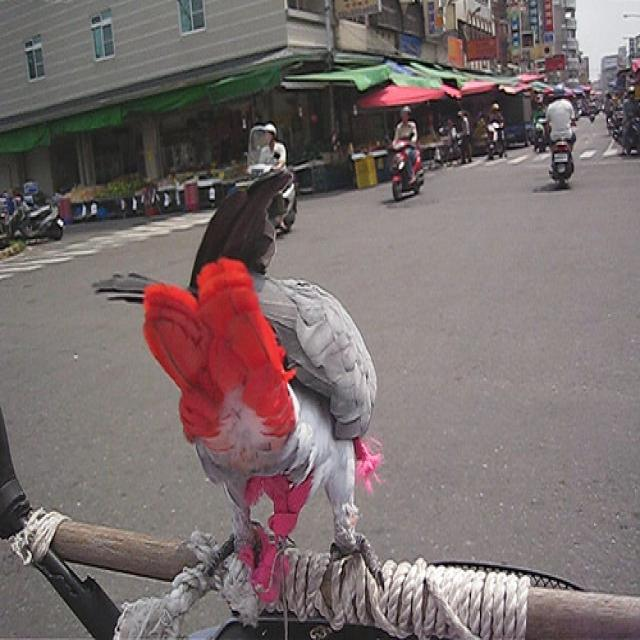motor: (246, 127, 298, 233), (492, 140, 572, 189), (388, 139, 438, 199), (4, 196, 64, 246), (623, 112, 640, 157), (486, 122, 504, 159), (531, 120, 547, 152), (606, 106, 620, 138)
